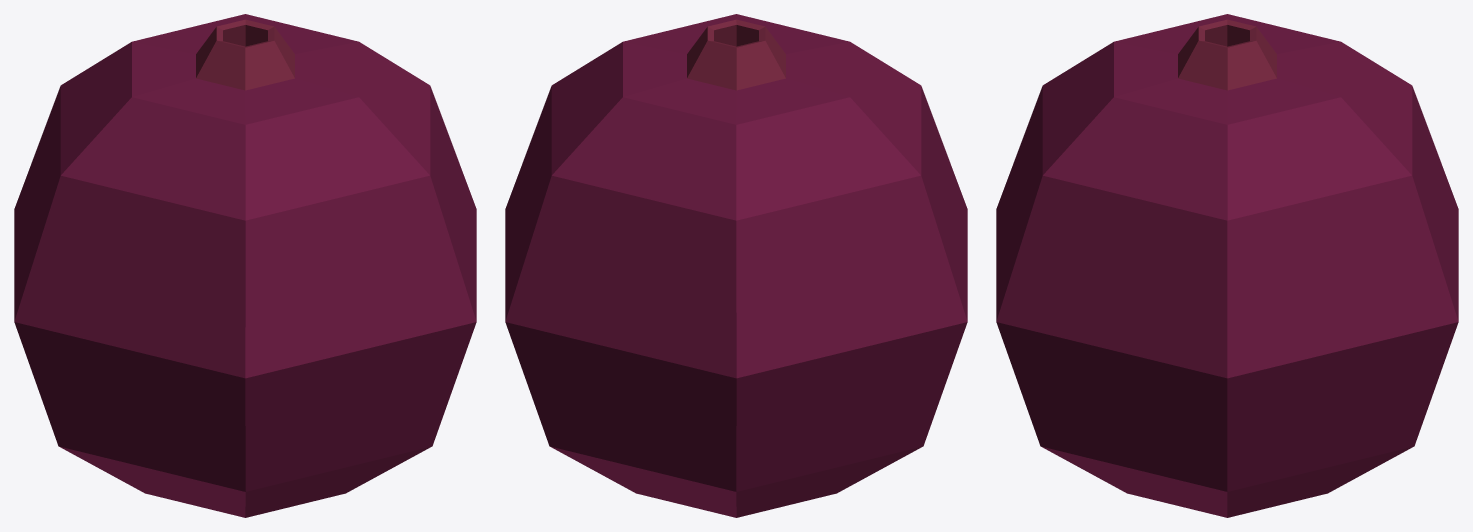
Rendered from Onion.fbx.
3 renders of one model, left to right at view 1: azimuth 30°, elevation 25°; view 2: azimuth 150°, elevation 25°; view 3: azimuth 270°, elevation 25°, orthographic.
Visible parts, largest first — view 1: Onion_All; view 2: Onion_All; view 3: Onion_All.
Boxes of the visible parts, x1=… form: Onion_All: x1=14, y1=14, x2=476, y2=517; Onion_All: x1=505, y1=14, x2=967, y2=517; Onion_All: x1=996, y1=14, x2=1458, y2=517.
Bounding box in the file's own units: 13.08 × 12.1 × 11.33.
